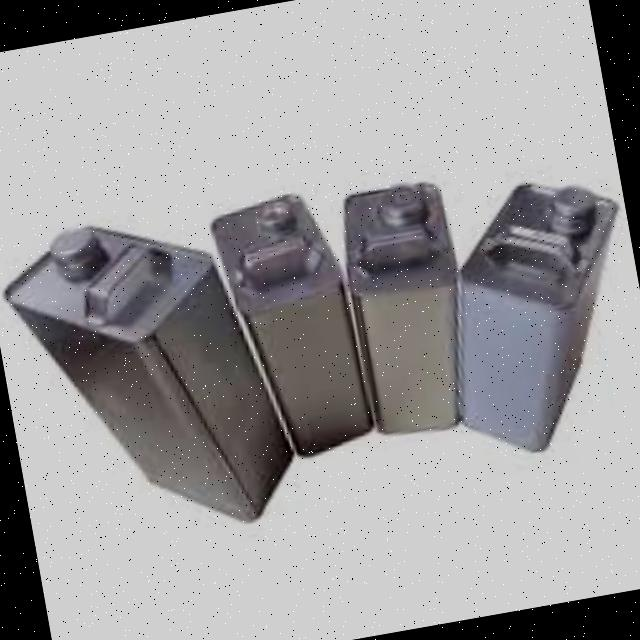Metal: (0, 190, 302, 559), (420, 163, 640, 463), (205, 182, 380, 468), (324, 169, 486, 443)
